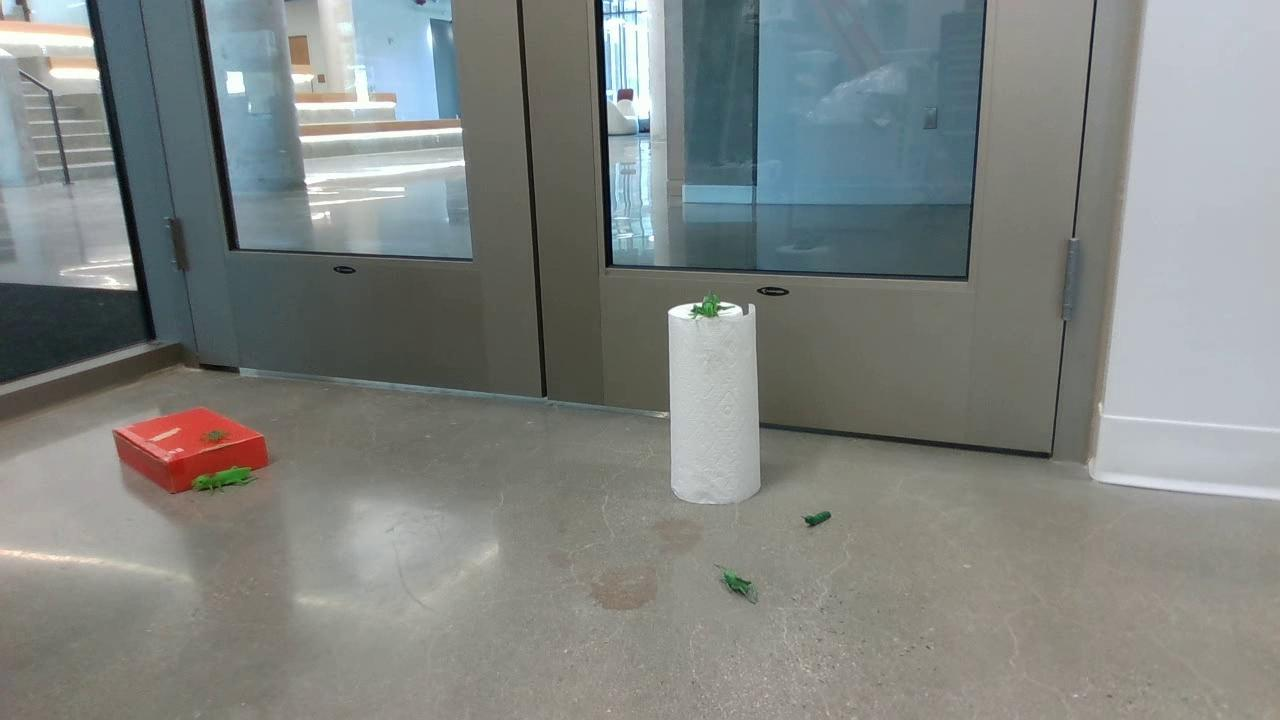grasshopper: (194, 469, 254, 488), (693, 297, 725, 318)
